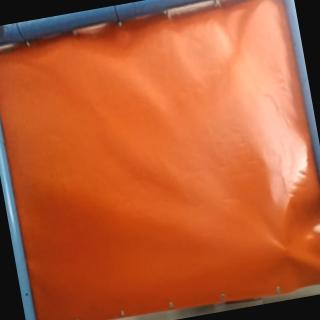Hit-hRxx: (280, 243, 300, 264)
